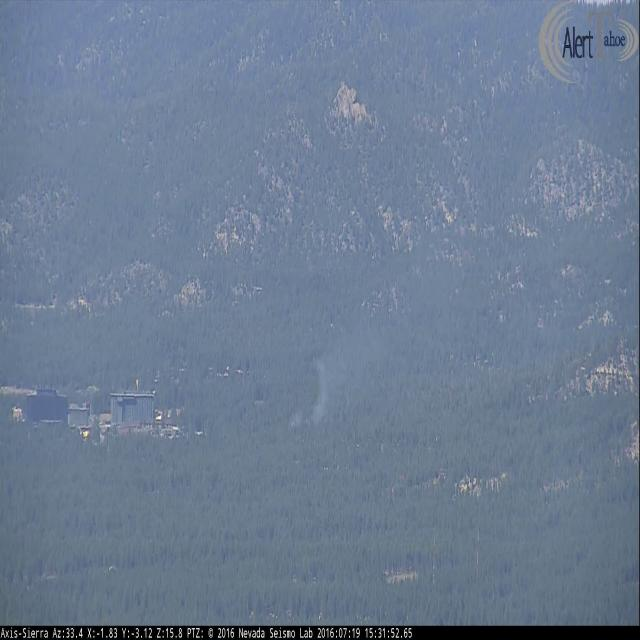smoke: (286, 266, 449, 431)
